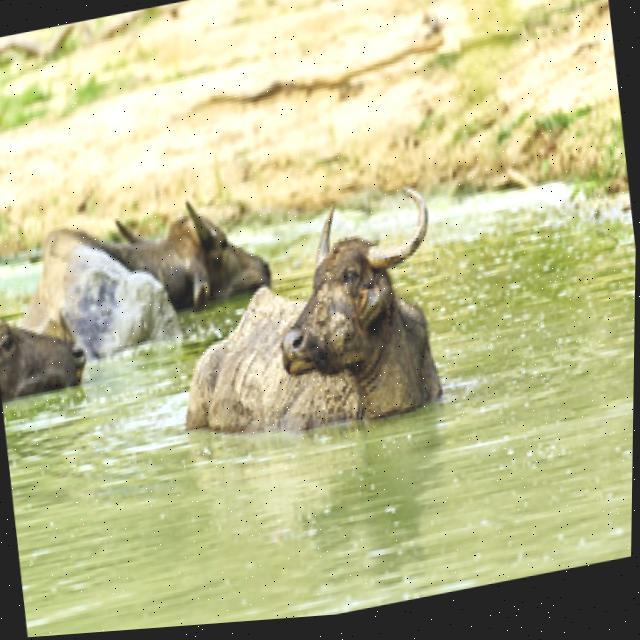Buffalo: (158, 175, 453, 461)
